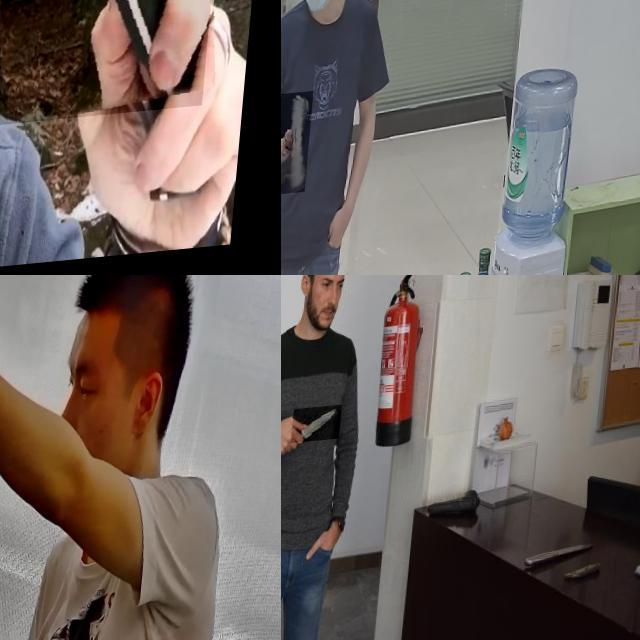-: (0, 0, 245, 234), (298, 411, 348, 449)
gun-knife-thesis - v11 Yolov5 augmented: (0, 291, 49, 580), (281, 96, 316, 201)
